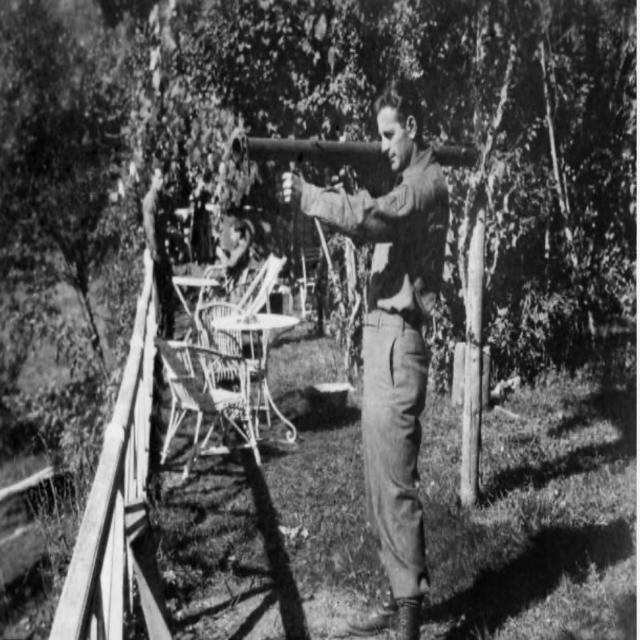bazooka: (234, 129, 491, 183)
